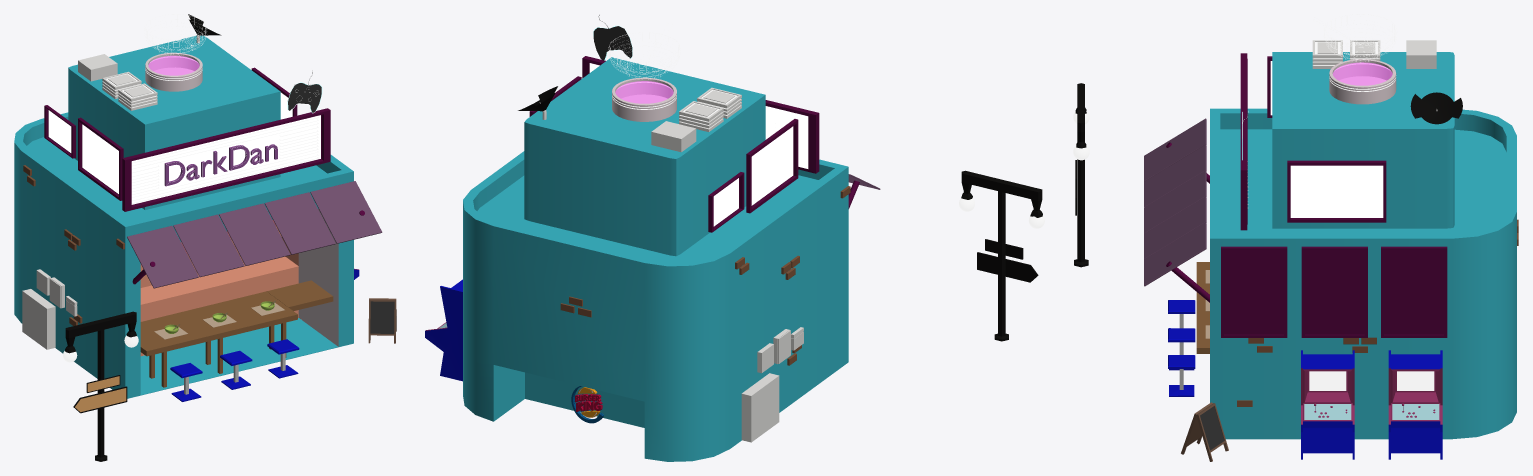
3 views of the same model, side by side, from view 1: azimuth 30°, elevation 25°; view 2: azimuth 150°, elevation 25°; view 3: azimuth 270°, elevation 25° (orthographic). The views are drawn at different scales.
Visible parts, largest first — view 1: casa, darkdan, mesa, pantallas, poste, Power, holog, Bancos, neon, inversor, Text.002, puerta (+5 smaller); view 2: casa, pantallas, poste, Power, holog, darkdan, Arcade.001, inversor, batery, Plane, Curve.016, tazongigante; view 3: casa, pantallas, Arcade.001, Arcade, holog, poste, Bancos, inversor, darkdan, Letrero, antena, mesa (+2 smaller).
Boxes of the visible parts, bbox=[...] form: casa: bbox=[14, 35, 382, 398]; darkdan: bbox=[122, 108, 330, 211]; mesa: bbox=[140, 291, 297, 387]; pantallas: bbox=[44, 67, 364, 284]; poste: bbox=[63, 311, 138, 461]; Power: bbox=[22, 269, 77, 349]; holog: bbox=[145, 52, 202, 91]; Bancos: bbox=[170, 339, 299, 401]; neon: bbox=[131, 116, 318, 203]; inversor: bbox=[102, 71, 157, 110]; Text.002: bbox=[164, 144, 277, 186]; puerta: bbox=[267, 280, 333, 310]; casa: bbox=[463, 57, 880, 461]; pantallas: bbox=[529, 76, 859, 232]; poste: bbox=[959, 170, 1044, 341]; Power: bbox=[741, 327, 803, 442]; holog: bbox=[612, 77, 676, 121]; darkdan: bbox=[582, 56, 819, 173]; Arcade.001: bbox=[425, 279, 462, 381]; inversor: bbox=[679, 87, 741, 131]; batery: bbox=[651, 121, 696, 152]; Plane: bbox=[593, 15, 632, 60]; Curve.016: bbox=[571, 386, 603, 423]; tazongigante: bbox=[608, 22, 680, 79]; casa: bbox=[1144, 52, 1518, 439]; pantallas: bbox=[1166, 56, 1447, 337]; Arcade.001: bbox=[1388, 350, 1442, 459]; Arcade: bbox=[1301, 350, 1354, 459]; holog: bbox=[1329, 59, 1396, 104]; poste: bbox=[1073, 83, 1089, 267]; Bancos: bbox=[1168, 300, 1195, 396]; inversor: bbox=[1312, 40, 1380, 68]; darkdan: bbox=[1240, 53, 1247, 230]; Letrero: bbox=[1181, 402, 1228, 461]; antena: bbox=[1410, 92, 1462, 124]; mesa: bbox=[1196, 262, 1209, 353].
Size of what is drawn, in the model's own units: 47.41 by 35.68 by 40.31.
